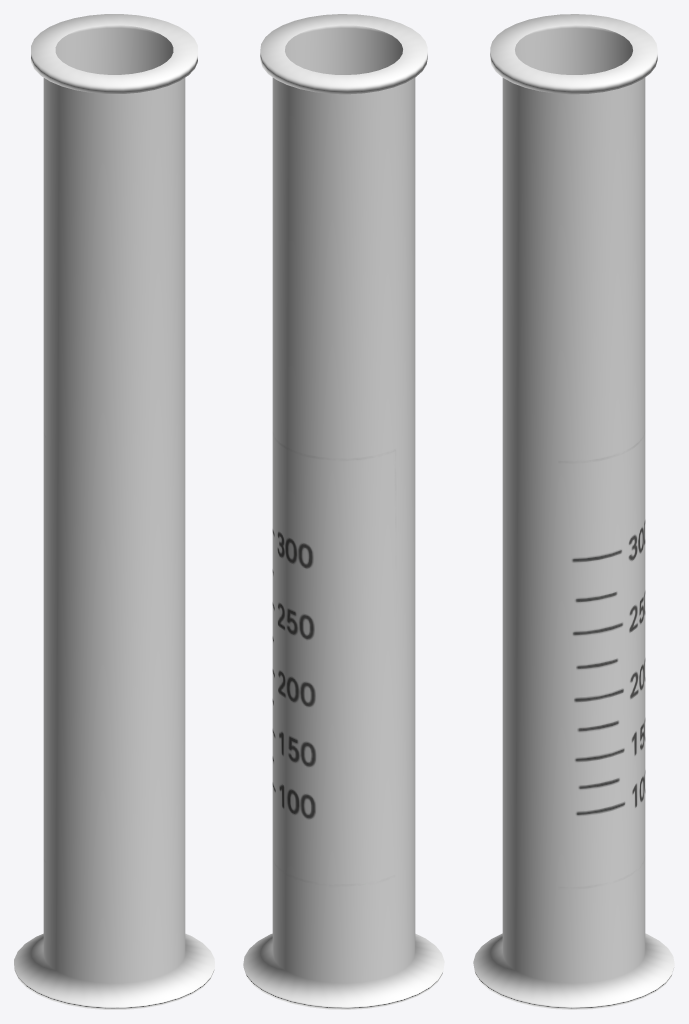
File: Flask2.fbx
3 views of the same model, side by side, from view 1: azimuth 30°, elevation 25°; view 2: azimuth 150°, elevation 25°; view 3: azimuth 270°, elevation 25° (orthographic).
Visible parts, largest first — view 1: pCylinder2; view 2: pCylinder2; view 3: pCylinder2.
Part boxes in pixels (x1=…): pCylinder2: x1=14, y1=14, x2=214, y2=1009; pCylinder2: x1=243, y1=14, x2=444, y2=1009; pCylinder2: x1=473, y1=14, x2=674, y2=1009.
Bounding box in the file's own units: 0.7215 × 3.63 × 0.7215.
1 material, 1 textured.
